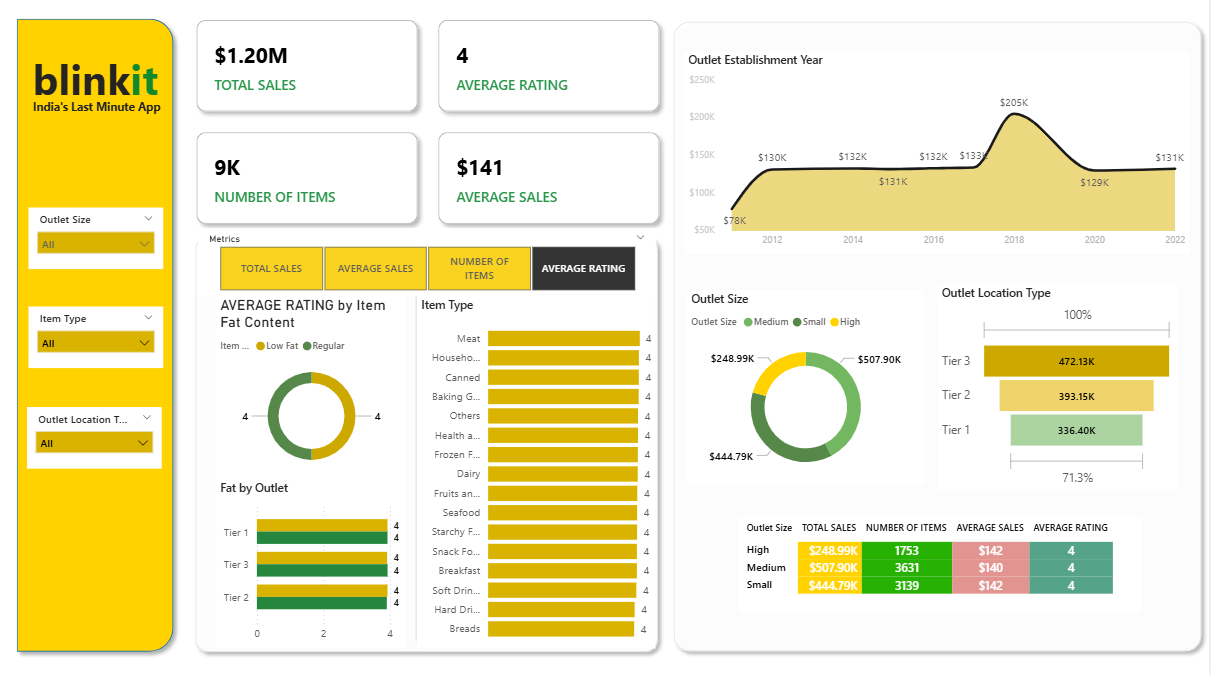

This screenshot's page, from the dashboard's own definition file:
{"tool":"powerbi","page":{"name":"Page 1","canvas":[1400,800],"ordinal":0},"visuals":[{"type":"shape","box":[10.1,24.2,199.3,750.7],"z":0},{"type":"textbox","box":[32.3,64.7,177.9,73.9],"z":1000},{"type":"textbox","box":[32.3,120.1,177.9,67],"z":2000},{"type":"cardVisual","fields":{"Data":["BlinkIT Grocery Data.TOTAL SALES","BlinkIT Grocery Data.AVERAGE RATING","BlinkIT Grocery Data.NUMBER OF ITEMS","BlinkIT Grocery Data.AVERAGE SALES"]},"box":[209.3,18.1,571.6,271.7],"z":3000},{"type":"shape","box":[217.4,275.7,553.5,499.1],"z":4000},{"type":"donutChart","fields":{"Y":["BlinkIT Grocery Data.AVERAGE RATING"],"Category":["BlinkIT Grocery Data.Item Fat Content"]},"box":[250.1,354.3,220.6,211.9],"z":5000},{"type":"slicer","fields":{"Values":["Metrics.Metrics"]},"box":[229.2,276.1,529.7,78.1],"z":6000},{"type":"clusteredBarChart","title":"Fat by Outlet","fields":{"Y":["BlinkIT Grocery Data.AVERAGE RATING"],"Category":["BlinkIT Grocery Data.Outlet Location Type"],"Series":["BlinkIT Grocery Data.Item Fat Content"]},"box":[250.1,566.1,220.6,196.2],"z":7000},{"type":"shape","box":[470.6,354.3,22.6,399.4],"z":8000},{"type":"barChart","title":"Item Type","fields":{"Y":["BlinkIT Grocery Data.AVERAGE RATING"],"Category":["BlinkIT Grocery Data.Item Type"]},"box":[482.8,354.3,276.1,408.1],"z":9000},{"type":"shape","box":[771.1,27.8,628.7,746.8],"z":10000},{"type":"lineChart","title":"Outlet Establishment Year","fields":{"Category":["BlinkIT Grocery Data.Outlet Establishment Year"],"Y":["BlinkIT Grocery Data.TOTAL SALES"]},"box":[791.9,71.2,585.3,234.4],"z":11000},{"type":"donutChart","title":"Outlet Size","fields":{"Category":["BlinkIT Grocery Data.Outlet Size"],"Y":["BlinkIT Grocery Data.TOTAL SALES"]},"box":[795.4,347.3,274.4,225.8],"z":12000},{"type":"funnel","title":"Outlet Location Type","fields":{"Y":["Sum(BlinkIT Grocery Data.Sales)"],"Category":["BlinkIT Grocery Data.Outlet Location Type"]},"box":[1085.4,340.4,277.9,239.7],"z":13000},{"type":"pivotTable","fields":{"Rows":["BlinkIT Grocery Data.Outlet Size"],"Values":["BlinkIT Grocery Data.TOTAL SALES","BlinkIT Grocery Data.NUMBER OF ITEMS","BlinkIT Grocery Data.AVERAGE SALES","BlinkIT Grocery Data.AVERAGE RATING"]},"box":[854.4,609.6,467.2,111.1],"z":14000},{"type":"slicer","fields":{"Values":["BlinkIT Grocery Data.Outlet Size"]},"box":[33,251.8,156.3,71.2],"z":15000},{"type":"slicer","fields":{"Values":["BlinkIT Grocery Data.Item Type"]},"box":[33,366.4,156.3,71.2],"z":16000},{"type":"slicer","fields":{"Values":["BlinkIT Grocery Data.Outlet Location Type"]},"box":[31.3,482.8,156.3,71.2],"z":17000}]}

Visuals, with their boxes in screenshot pixels (x1, y1, x2, y2), scaled from the page's 1400x800 canvas onto the 1211x675 screenshot:
shape: crop(9, 20, 181, 654)
textbox: crop(28, 55, 182, 117)
textbox: crop(28, 101, 182, 158)
cardVisual - BlinkIT Grocery Data.TOTAL SALES x BlinkIT Grocery Data.AVERAGE RATING: crop(181, 15, 675, 245)
shape: crop(188, 233, 667, 654)
donutChart - BlinkIT Grocery Data.AVERAGE RATING x BlinkIT Grocery Data.Item Fat Content: crop(216, 299, 407, 478)
slicer - Metrics.Metrics: crop(198, 233, 656, 299)
"Fat by Outlet" clusteredBarChart: crop(216, 478, 407, 643)
shape: crop(407, 299, 427, 636)
"Item Type" barChart: crop(418, 299, 656, 643)
shape: crop(667, 23, 1210, 654)
"Outlet Establishment Year" lineChart: crop(685, 60, 1191, 258)
"Outlet Size" donutChart: crop(688, 293, 925, 484)
"Outlet Location Type" funnel: crop(939, 287, 1179, 489)
pivotTable - BlinkIT Grocery Data.Outlet Size x BlinkIT Grocery Data.TOTAL SALES: crop(739, 514, 1143, 608)
slicer - BlinkIT Grocery Data.Outlet Size: crop(29, 212, 164, 273)
slicer - BlinkIT Grocery Data.Item Type: crop(29, 309, 164, 369)
slicer - BlinkIT Grocery Data.Outlet Location Type: crop(27, 407, 162, 467)
